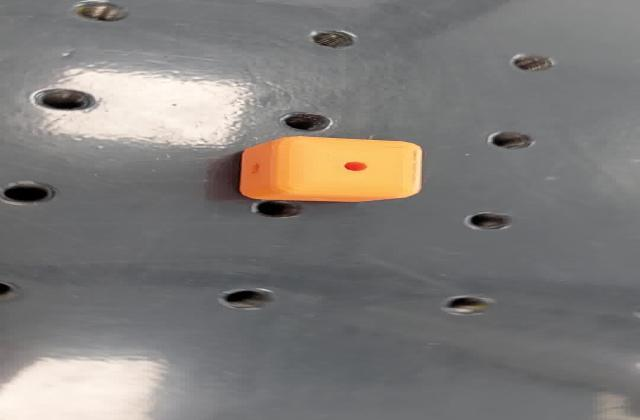cube: (226, 134, 428, 206)
